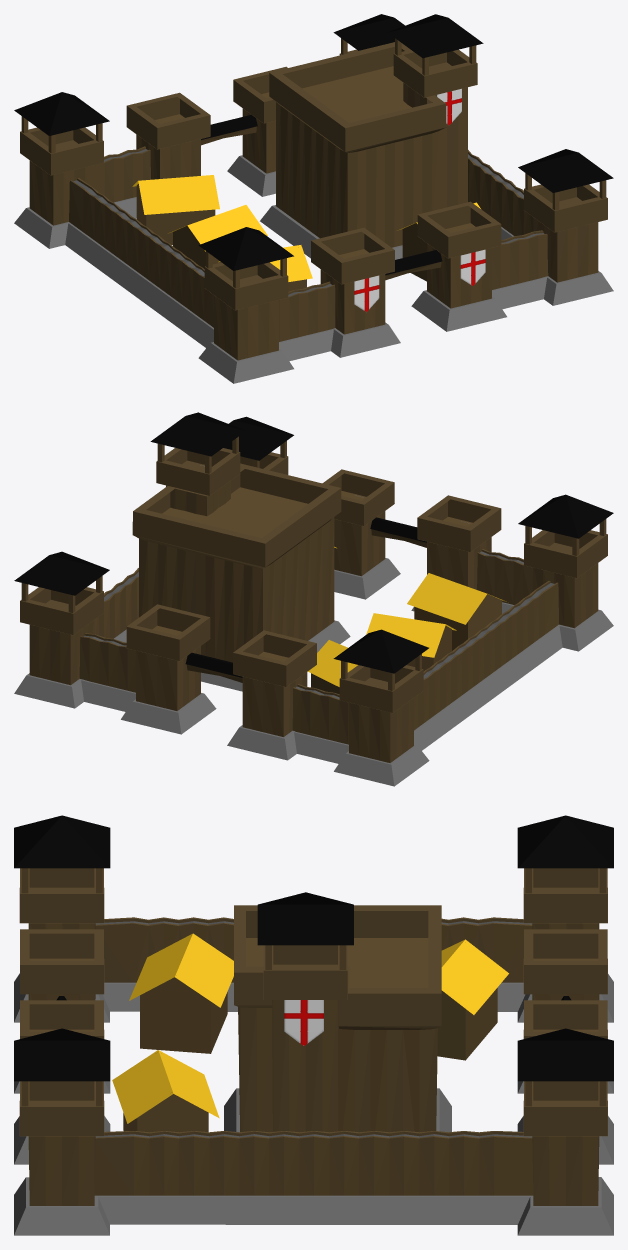
File: palisade.glb
The picture shows the model from 3 angles, top to bottom: view 1: azimuth 30°, elevation 25°; view 2: azimuth 150°, elevation 25°; view 3: azimuth 270°, elevation 25°; orthographic projection. The views are drawn at different scales.
Visible parts, largest first — view 1: gate-ud-regular-h.003, gate-ud-regular-h.002, Cube, Cube.001, Cube.002, Cube.003, Plane, Plane.002, Plane.001; view 2: gate-ud-regular-h.003, gate-ud-regular-h.002, Cube.002, Cube.001, Cube; view 3: gate-ud-regular-h.003, gate-ud-regular-h.002, Cube.002, Cube.003, Cube, Plane.003.
Boxes of the visible parts, x1=… form: gate-ud-regular-h.003: x1=14, y1=14, x2=613, y2=383; gate-ud-regular-h.002: x1=260, y1=14, x2=483, y2=259; Cube: x1=132, y1=175, x2=219, y2=244; Cube.001: x1=168, y1=205, x2=267, y2=268; Cube.002: x1=218, y1=245, x2=312, y2=291; Cube.003: x1=397, y1=202, x2=480, y2=281; Plane: x1=354, y1=275, x2=379, y2=312; Plane.002: x1=460, y1=249, x2=485, y2=285; Plane.001: x1=437, y1=88, x2=461, y2=125; gate-ud-regular-h.003: x1=14, y1=416, x2=613, y2=786; gate-ud-regular-h.002: x1=132, y1=412, x2=350, y2=691; Cube.002: x1=407, y1=573, x2=506, y2=650; Cube.001: x1=366, y1=613, x2=456, y2=671; Cube: x1=308, y1=640, x2=357, y2=694; gate-ud-regular-h.003: x1=14, y1=815, x2=613, y2=1235; gate-ud-regular-h.002: x1=224, y1=892, x2=451, y2=1132; Cube.002: x1=129, y1=933, x2=233, y2=1053; Cube.003: x1=112, y1=1050, x2=219, y2=1132; Cube: x1=437, y1=939, x2=508, y2=1060; Plane.003: x1=284, y1=1000, x2=323, y2=1045.
Size of the model in its own units: 5 by 2.72 by 5.
2 materials, 2 textured.
